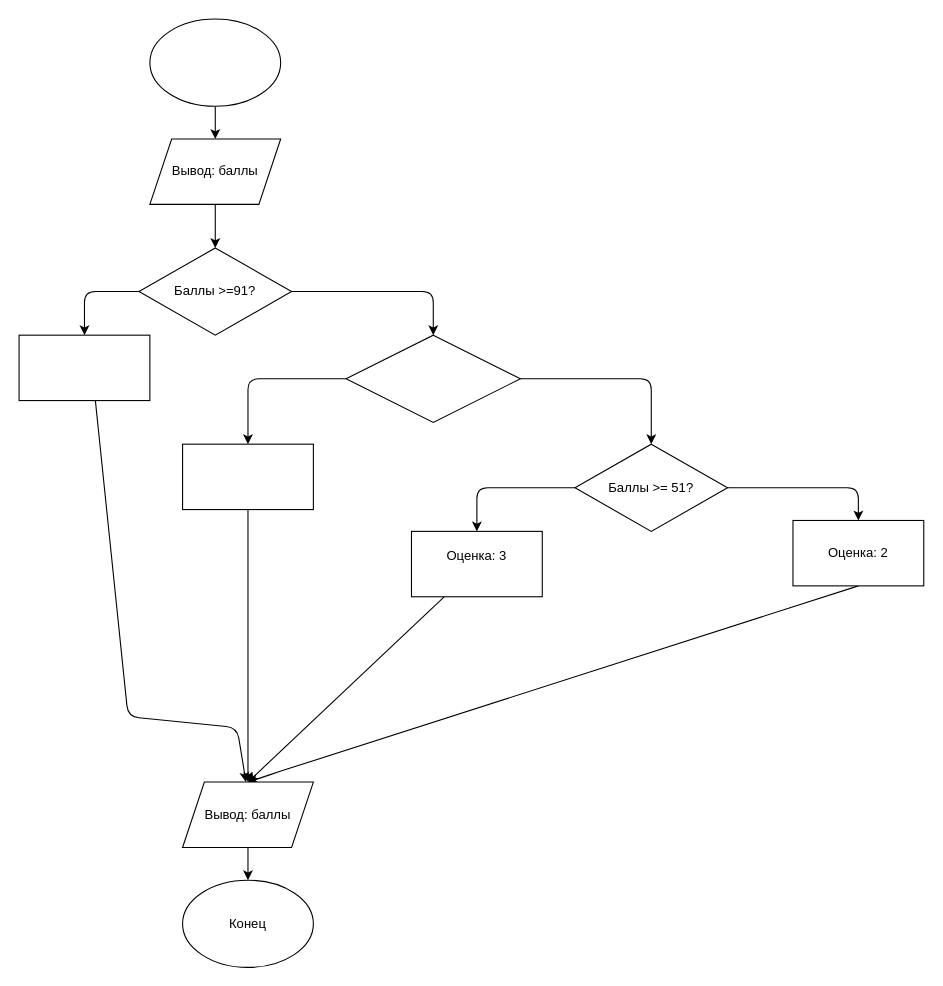
Some shapes in this 943 by 986 pixel diagram are drawn without their labels. Each missing label, with the centre of its shape:
"Баллы>=71?" goes at point (432, 378).
"Начало" goes at point (215, 62).
"Оценка: 4" goes at point (247, 476).
"Оценка: 5" goes at point (84, 367).
